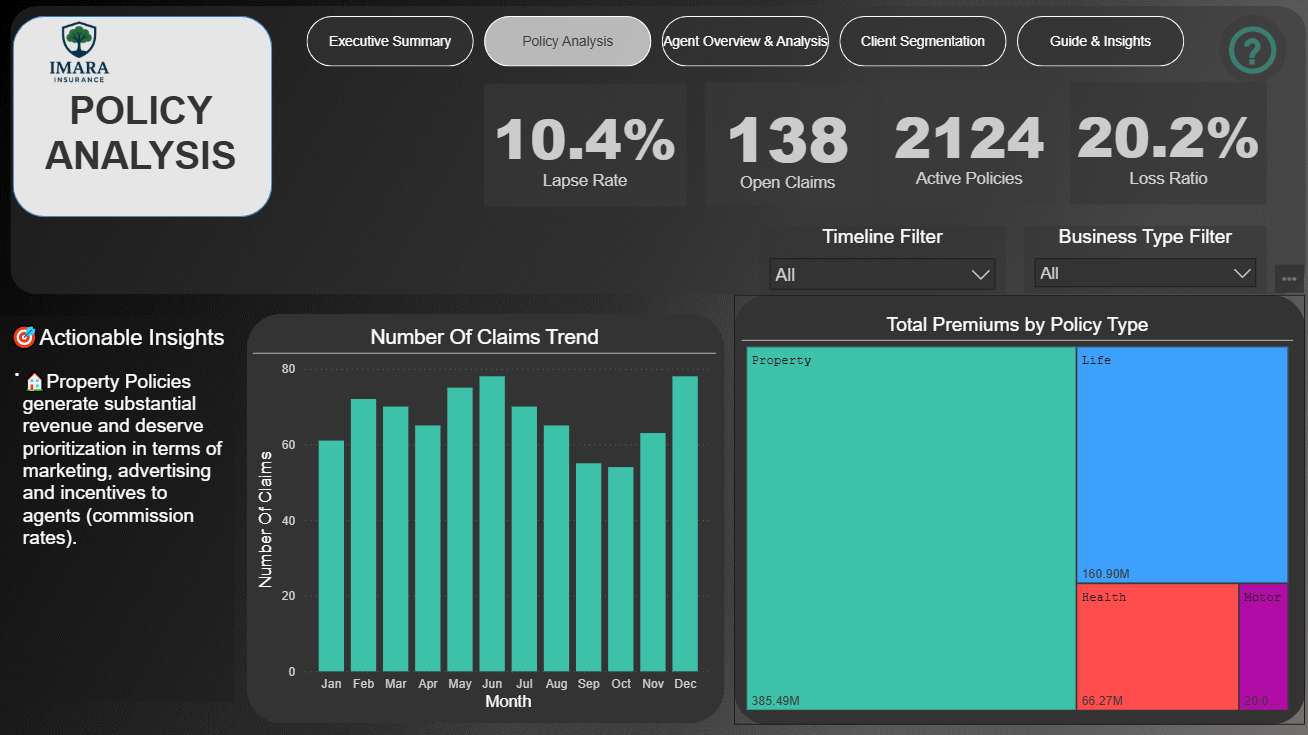

Layout of this report page (visuals, bound fields, positions):
{"tool":"powerbi","page":{"name":"Policy Analysis","canvas":[1280,720],"ordinal":1},"visuals":[{"type":"shape","box":[712,288.8,553.5,416.5],"z":0},{"type":"shape","box":[239.1,307.6,463,397],"z":1000},{"type":"shape","box":[10.7,9.4,1254.7,279.4],"z":2000},{"type":"treemap","title":"Total Premiums by Policy Type","fields":{"Group":["Policies.policytype"],"Values":["Policies.Total_Premium"]},"box":[718.7,307.6,534.7,388.2],"z":3000},{"type":"clusteredColumnChart","title":"Number Of Claims Trend","fields":{"Category":["DateTime.MonthName"],"Y":["Claims.Claim_Count"]},"box":[245.8,318,449,377],"z":5000},{"type":"slicer","title":"Business Type Filter","fields":{"Values":["Policies.businesstype"]},"box":[992.8,223,235.1,65.8],"z":6000},{"type":"card","fields":{"Values":["Claims.Loss Ratio"]},"box":[1037.1,83.3,190.8,118.2],"z":7000},{"type":"card","fields":{"Values":["Policies.Active_Policies"]},"box":[855.8,81.9,167.9,119.6],"z":8000},{"type":"card","fields":{"Values":["Claims.Open_Claims"]},"box":[683.8,83.3,159.9,119.6],"z":9000},{"type":"card","fields":{"Values":["Claims.Lapse_Rate"]},"box":[470.2,84.6,196.1,119.6],"z":10000},{"type":"slicer","title":"Timeline Filter","fields":{"Values":["DateTime.YearMonth"]},"box":[736.2,223,239.1,65.8],"z":11000},{"type":"pageNavigator","box":[298.2,18.8,851.7,49.7],"z":12000},{"type":"shape","box":[13.4,18.8,251.2,194.8],"z":13000},{"type":"textbox","box":[29.6,84.6,216.3,116.9],"z":14000},{"type":"image","box":[0,9.4,154.5,90],"z":15000},{"type":"textbox","box":[0,310.3,228.4,373.5],"z":16000},{"type":"actionButton","box":[1178.2,13.9,72.5,75.3],"z":16500},{"type":"shape","box":[1181,18.1,65.5,66.9],"z":17000}]}

Visuals, with their boxes in screenshot pixels (x1, y1, x2, y2), scaled from the page's 1280x720 canvas onto the 1308x735 screenshot:
shape: l=728, t=295, r=1293, b=720
shape: l=244, t=314, r=717, b=719
shape: l=11, t=10, r=1293, b=295
"Total Premiums by Policy Type" treemap: l=734, t=314, r=1281, b=710
"Number Of Claims Trend" clusteredColumnChart: l=251, t=325, r=710, b=709
"Business Type Filter" slicer: l=1015, t=228, r=1255, b=295
card - Claims.Loss Ratio: l=1060, t=85, r=1255, b=206
card - Policies.Active_Policies: l=875, t=84, r=1046, b=206
card - Claims.Open_Claims: l=699, t=85, r=862, b=207
card - Claims.Lapse_Rate: l=480, t=86, r=681, b=208
"Timeline Filter" slicer: l=752, t=228, r=997, b=295
pageNavigator: l=305, t=19, r=1175, b=70
shape: l=14, t=19, r=270, b=218
textbox: l=30, t=86, r=251, b=206
image: l=0, t=10, r=158, b=101
textbox: l=0, t=317, r=233, b=698
actionButton: l=1204, t=14, r=1278, b=91
shape: l=1207, t=18, r=1274, b=87
